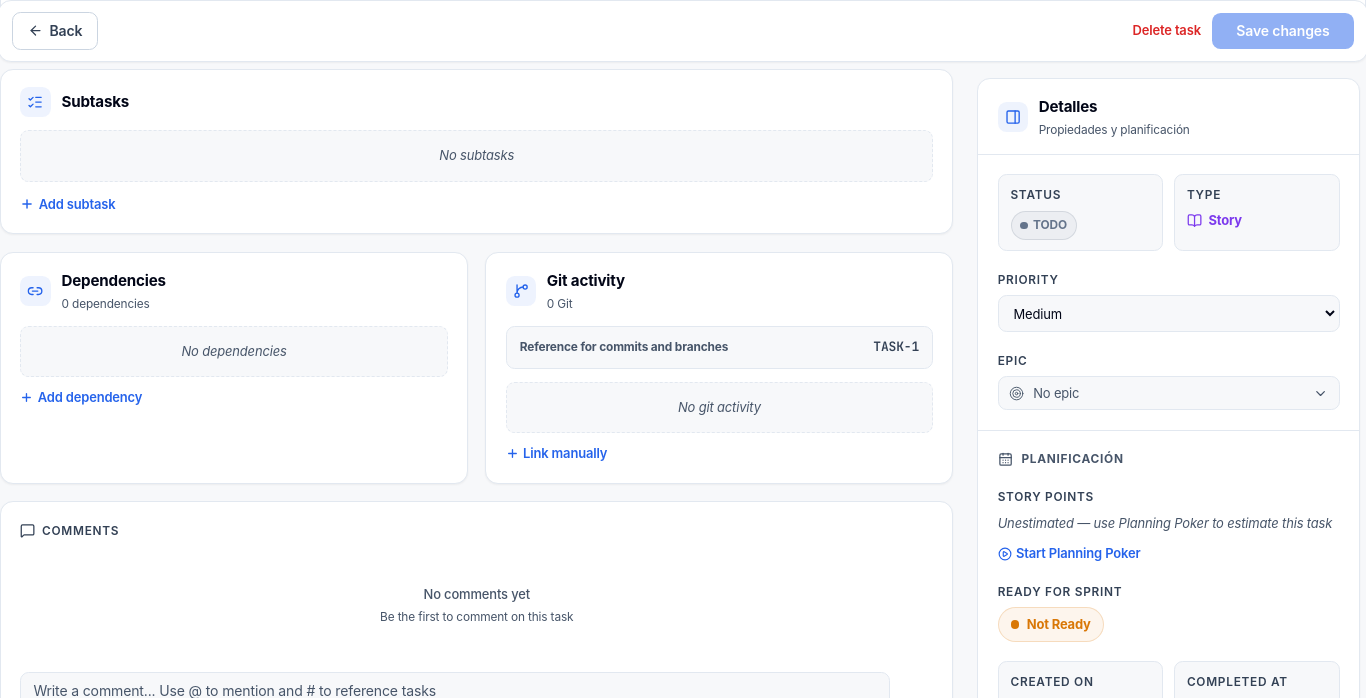
TaskDetailPage › shows a specific message when the task is saved but epic assignment is rejected for permissions
(page scrolled)
Expected: the button "Save changes" is shown, [1212,13,1354,49]
Click the button "No epic" at (1056, 393), box [998,376,1340,411]
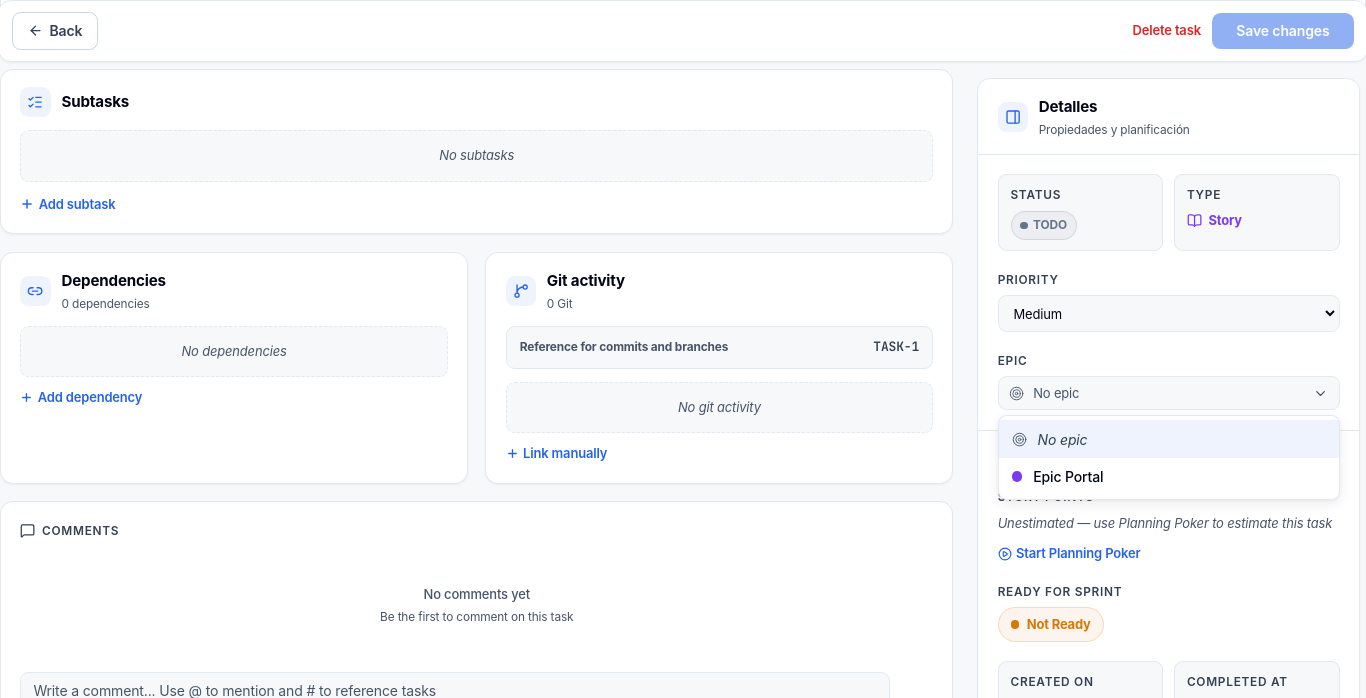
Click the button "Epic Portal" at (1068, 477), box [999,459,1338,495]
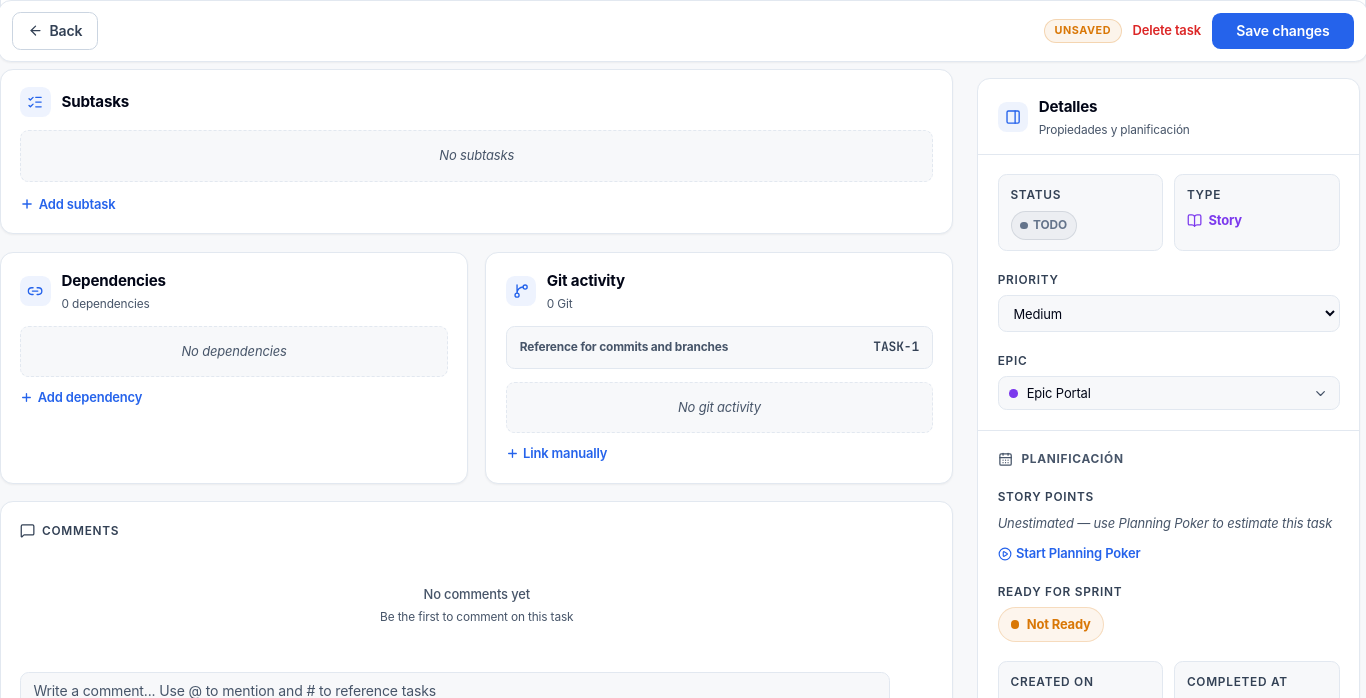
Click the button "Save changes" at (1283, 31), box [1212,13,1354,49]
(page scrolled)
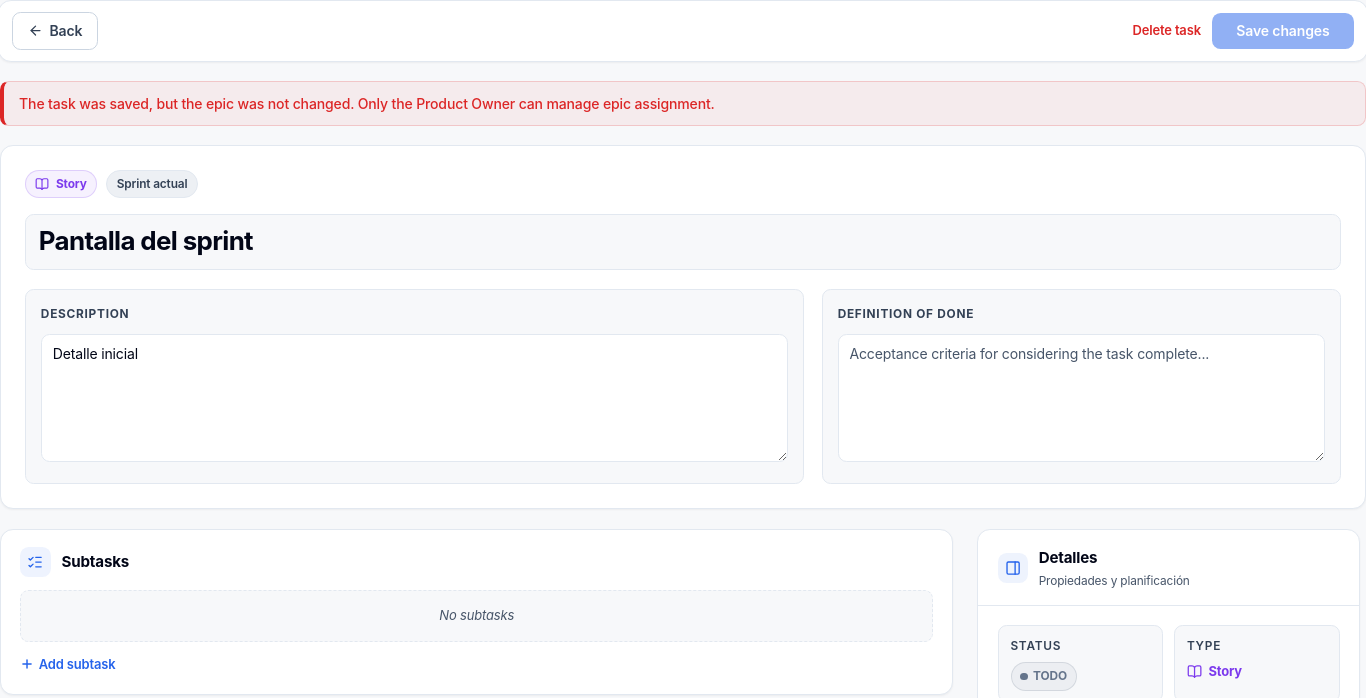
Result: the text "The task was saved, but the epic was not changed. Only the Product Owner can manage epic assignment." is shown at [19,95,715,112]
